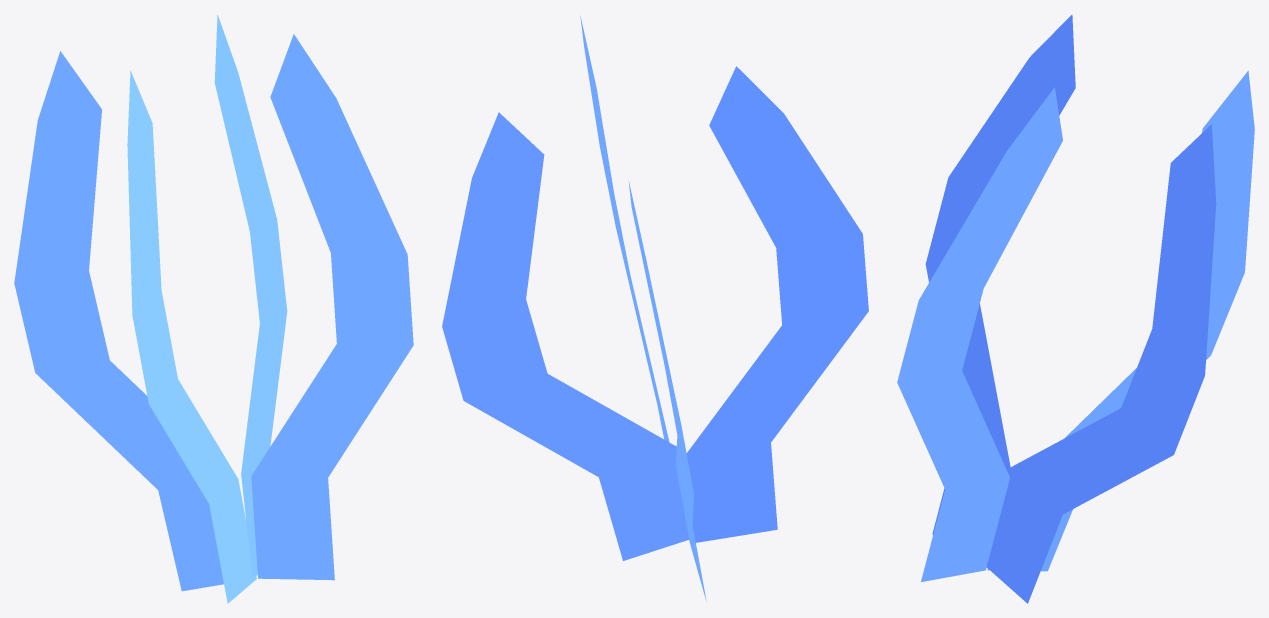
The model's file is seagrass2.fbx.
3 renders of one model, left to right at view 1: azimuth 30°, elevation 25°; view 2: azimuth 150°, elevation 25°; view 3: azimuth 270°, elevation 25°, orthographic. The views are drawn at different scales.
Visible parts, largest first — view 1: Piano.355, Piano.353, Piano.354, Piano.352; view 2: Piano.354, Piano.352, Piano.353, Piano.355; view 3: Piano.352, Piano.355, Piano.354, Piano.353.
Boxes of the visible parts, x1,y1,x2,y2 form: Piano.355: [251, 34, 413, 580]; Piano.353: [14, 51, 223, 591]; Piano.354: [127, 70, 256, 603]; Piano.352: [214, 15, 287, 577]; Piano.354: [686, 66, 868, 542]; Piano.352: [442, 112, 689, 560]; Piano.353: [628, 181, 706, 601]; Piano.355: [580, 16, 689, 541]; Piano.352: [986, 124, 1216, 603]; Piano.355: [897, 87, 1062, 581]; Piano.354: [925, 14, 1075, 534]; Piano.353: [987, 70, 1254, 571].
Size of the model in its own units: 81.31 by 152 by 90.79.
